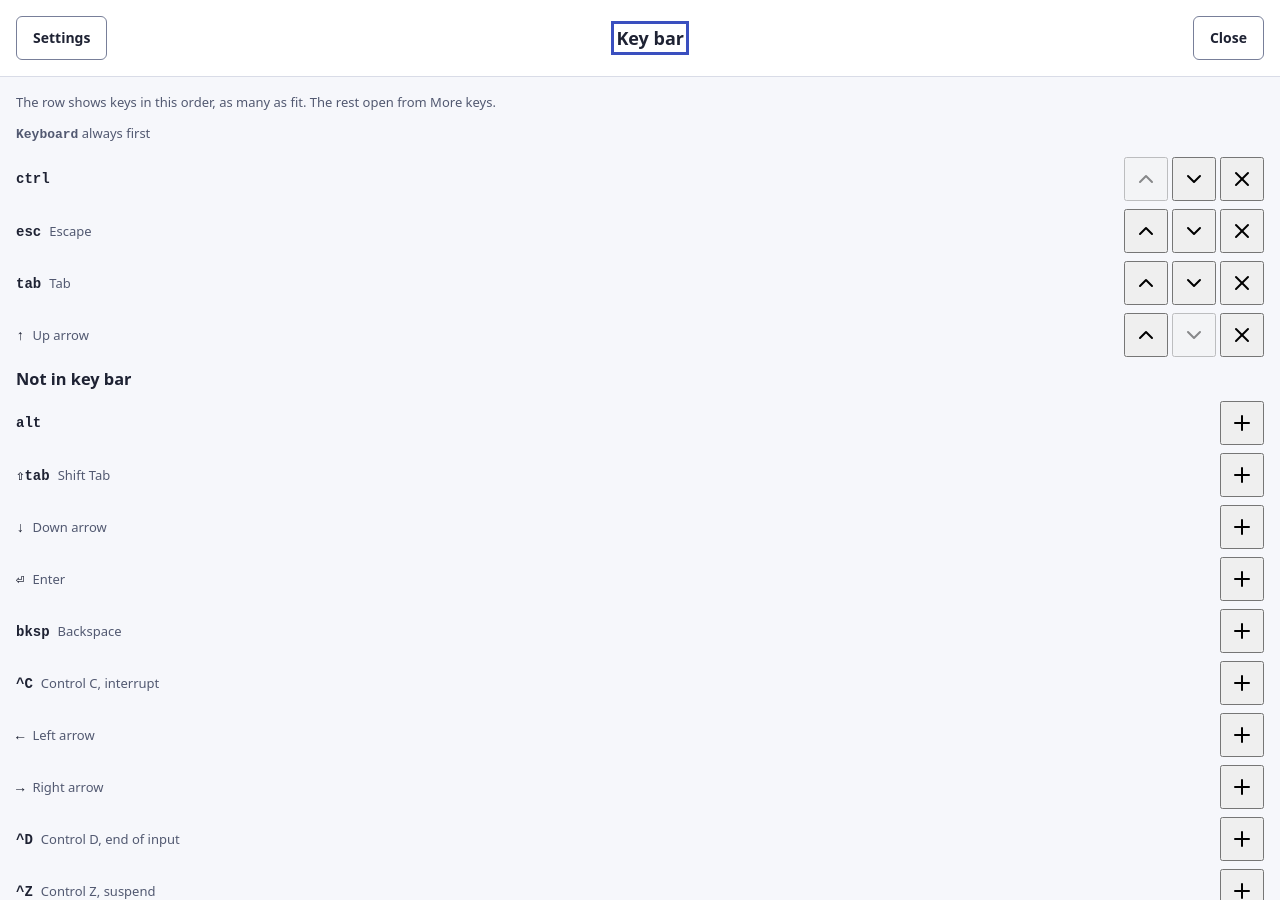
Test case: KeyBarEditor › moves a key down, keeps focus on its Move down control and announces the position
Click the button named "Move ctrl down": [1194, 179] box top-left (1172, 157), bottom-right (1216, 201)
(page scrolled)
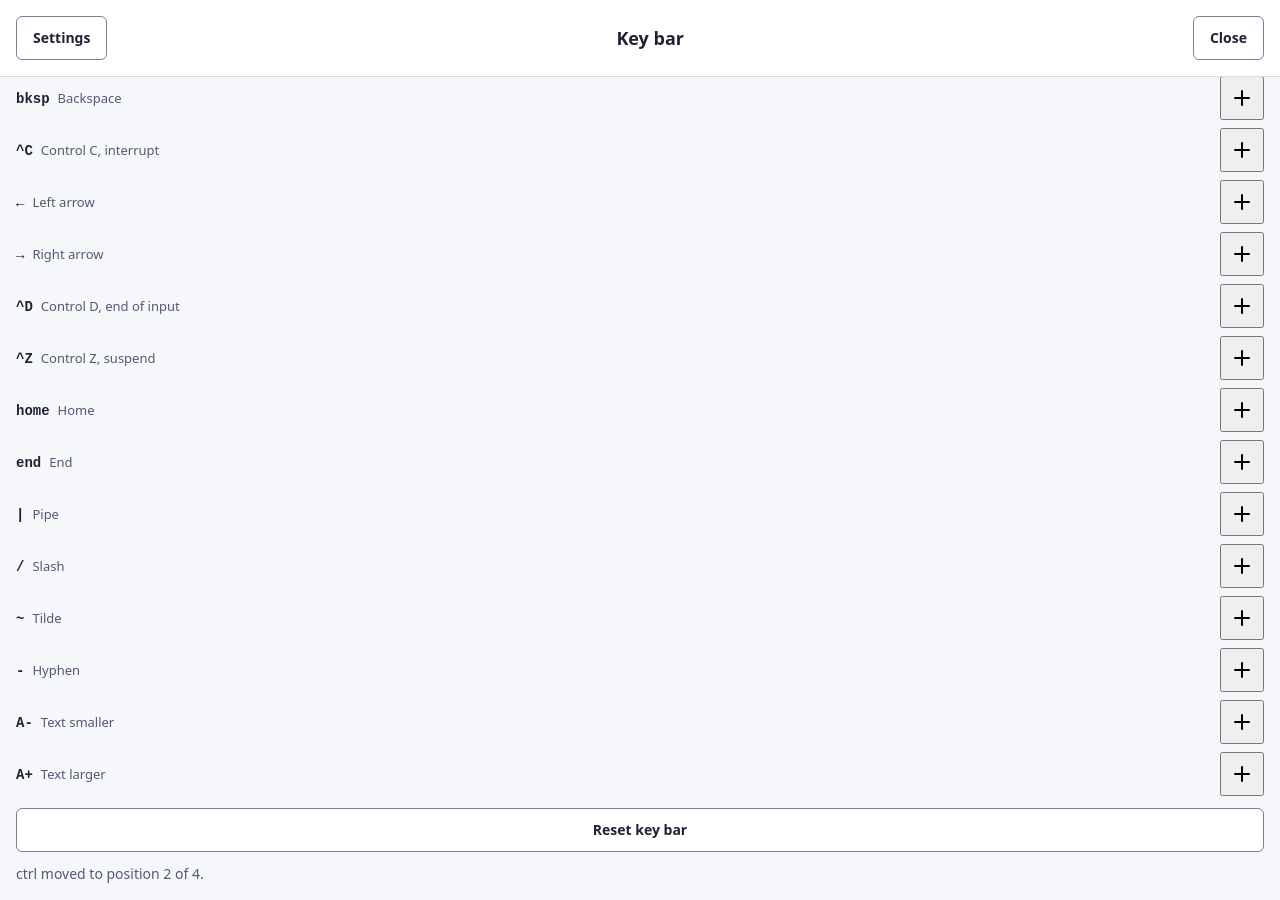
Expected: the message reads "ctrl moved to position 2 of 4.", top-left (16, 864), bottom-right (204, 883)
